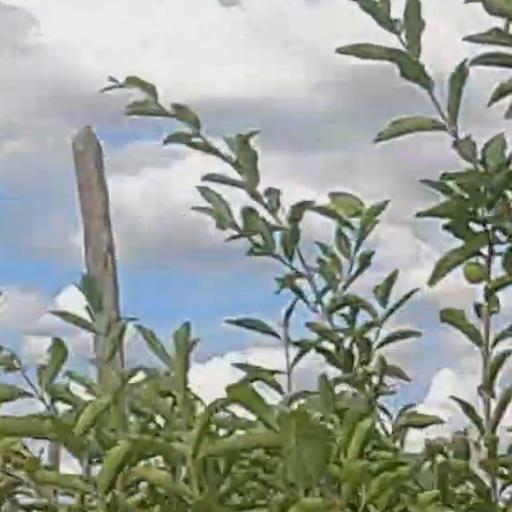acerola_verde: (467, 262, 483, 283)
